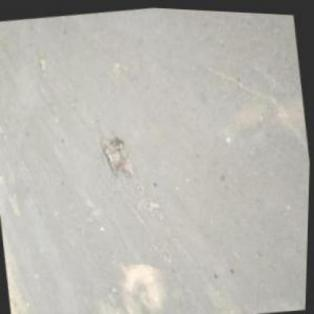Hueco: (99, 127, 140, 178), (7, 189, 23, 219), (36, 54, 48, 71)
